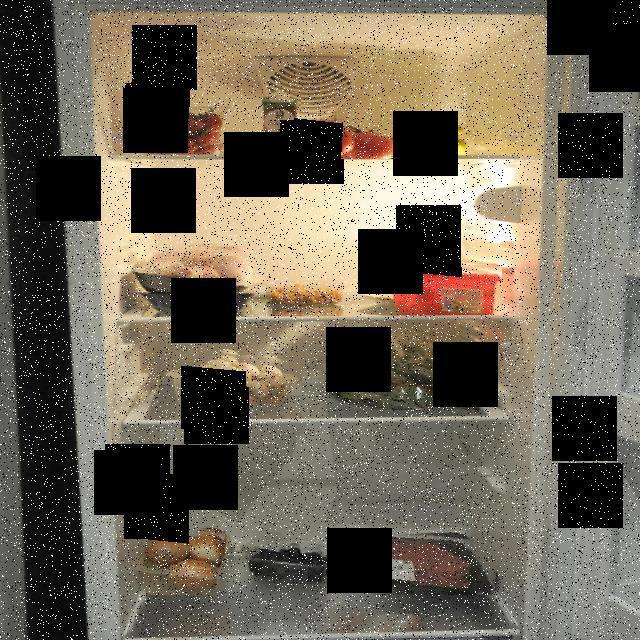banana: (399, 121, 475, 155)
blueberries: (241, 540, 333, 584)
butter: (380, 255, 502, 315)
chicken: (135, 240, 271, 292)
green_beans: (332, 325, 500, 379)
ground_beef: (372, 529, 499, 595)
heavy_cream: (259, 90, 301, 156)
mushrooms: (162, 348, 302, 404)
onion: (143, 525, 225, 589)
shrimp: (266, 281, 352, 306)
spinach: (328, 352, 481, 410)
strawberries: (131, 106, 235, 152)
tomato: (294, 110, 398, 160)
